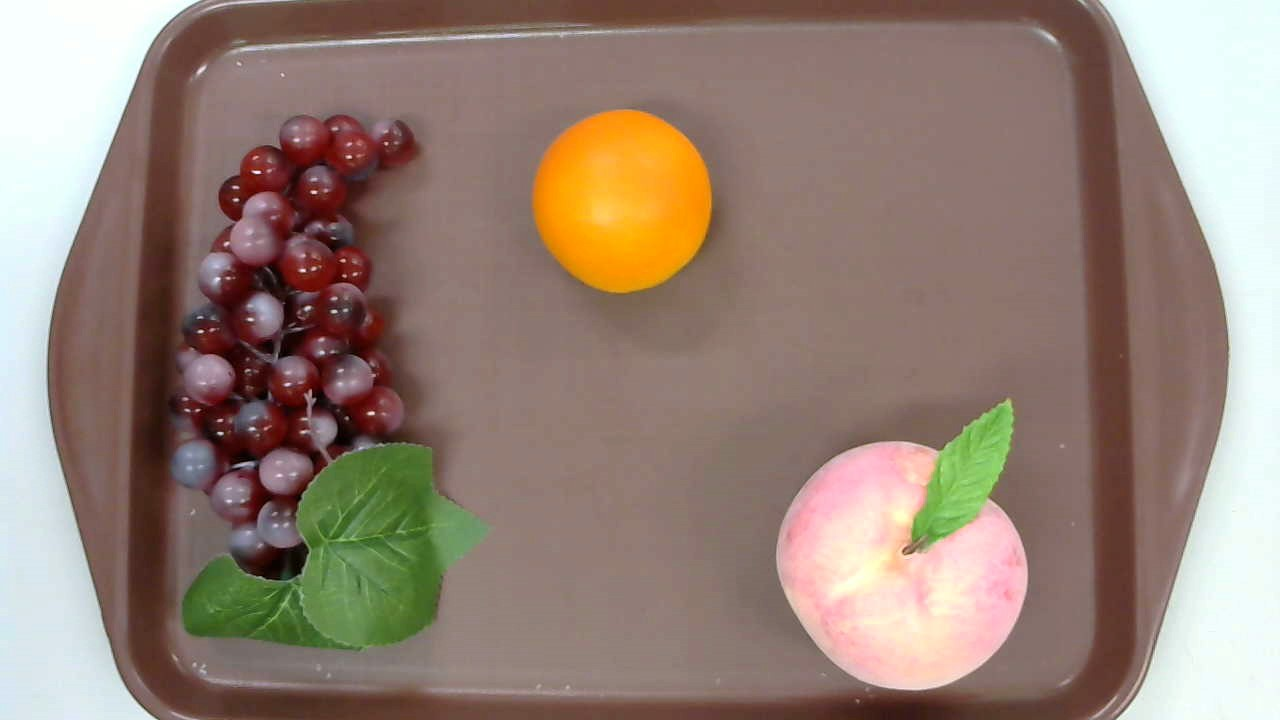bun: (532, 110, 713, 292)
grape: (171, 114, 492, 650)
peach: (775, 397, 1028, 688)
